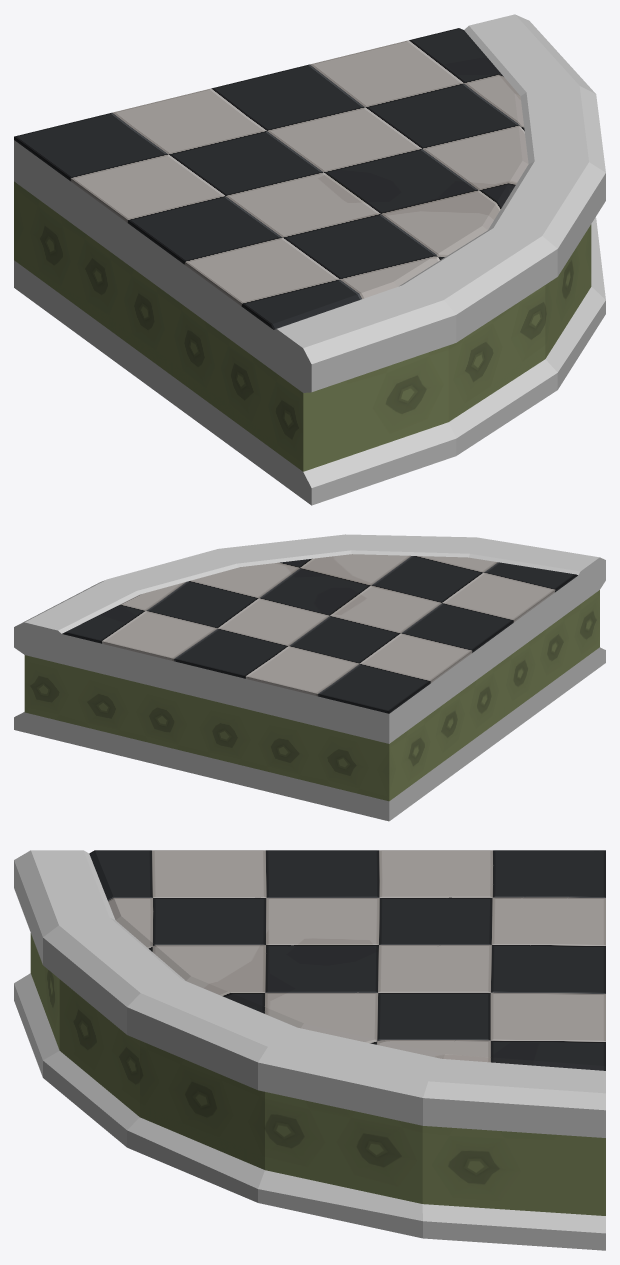
File: SM_Prop_Platform_02_Corner_L_01.fbx
The picture shows the model from 3 angles, top to bottom: view 1: azimuth 30°, elevation 25°; view 2: azimuth 150°, elevation 25°; view 3: azimuth 270°, elevation 25°; orthographic projection. The views are drawn at different scales.
Parts seen in each view (by area): view 1: SM_Prop_Platform_02_Corner_L_01; view 2: SM_Prop_Platform_02_Corner_L_01; view 3: SM_Prop_Platform_02_Corner_L_01.
Boxes of the visible parts, x1=… form: SM_Prop_Platform_02_Corner_L_01: x1=14, y1=14, x2=605, y2=505; SM_Prop_Platform_02_Corner_L_01: x1=14, y1=534, x2=605, y2=821; SM_Prop_Platform_02_Corner_L_01: x1=14, y1=850, x2=605, y2=1250.
Bounding box in the file's own units: 178 × 50 × 178.
